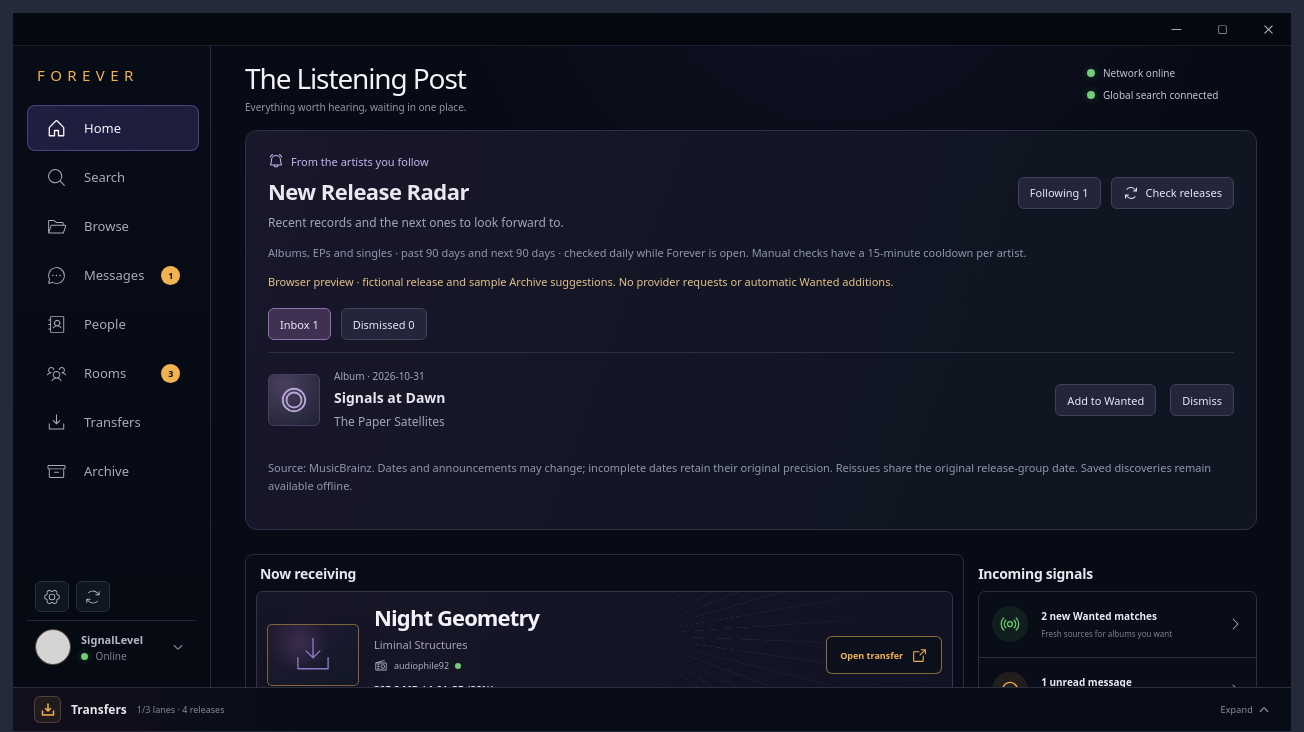
Test case: Forever shell › uses Music Library as a read-only Archive without adopting downloads
This screenshot has width=1304, height=732.
Click the button "Archive": (113, 471) [27,448,199,494]
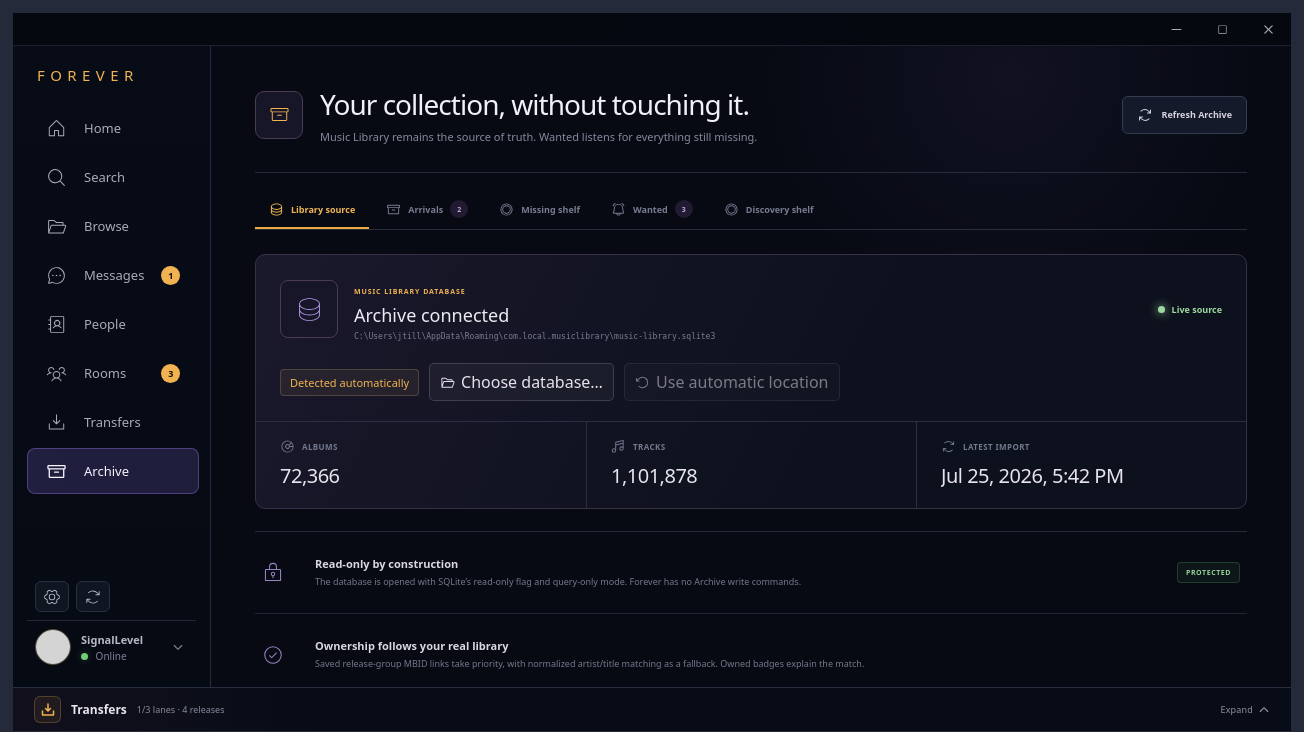
Expected: the heading "Your collection, without touching it." is shown, [320,85,757,123]
Expected: the heading "Archive connected" is shown, [354,303,509,327]
Expected: the text "com.local.musiclibrary\\music-library.sqlite3" is shown, [354,332,715,341]
